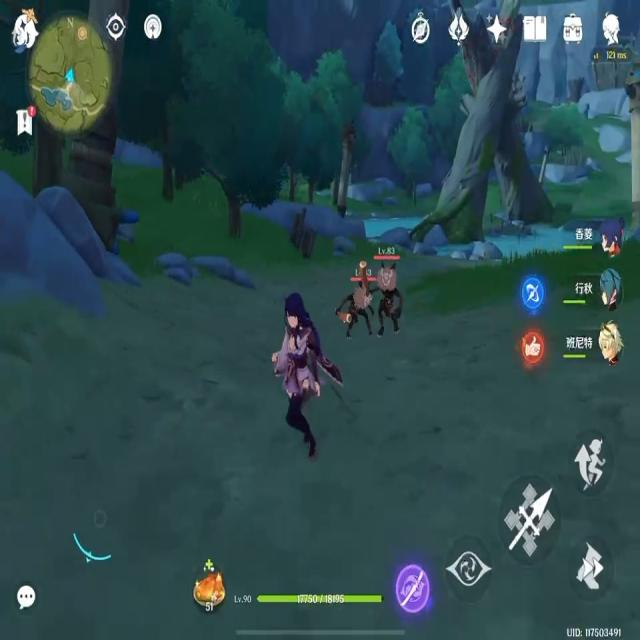genshin-hilichurls: (378, 264, 406, 338), (339, 282, 370, 340)
